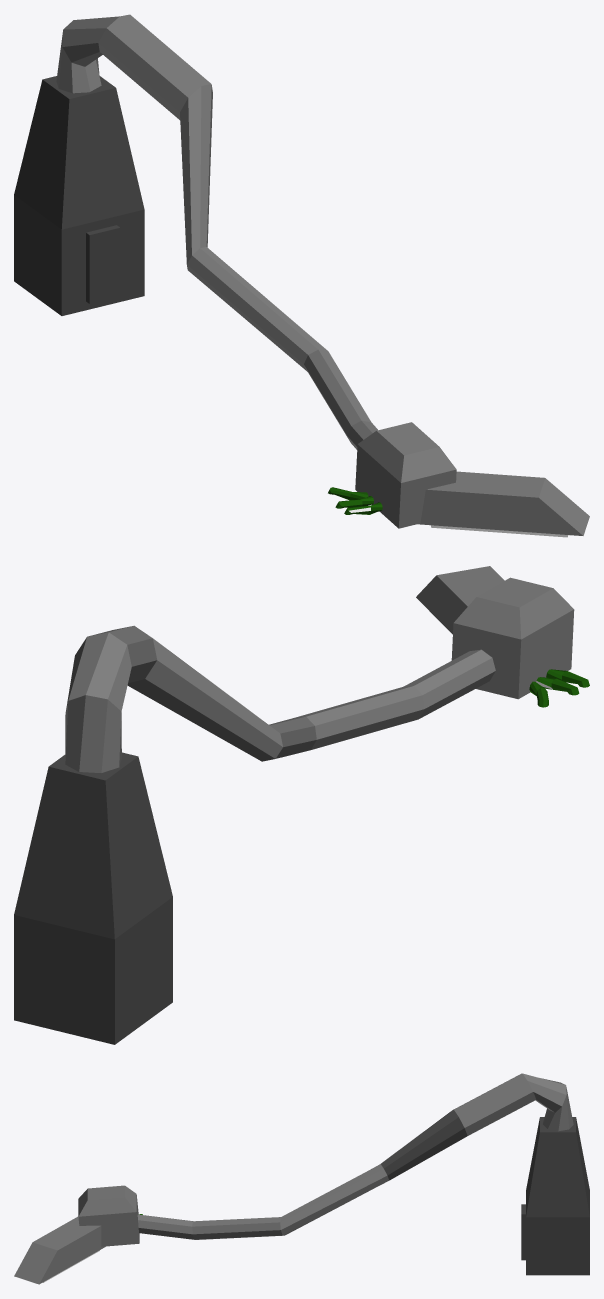
Rendered from Nblight.fbx.
3 renders of one model, top to bottom at view 1: azimuth 30°, elevation 25°; view 2: azimuth 150°, elevation 25°; view 3: azimuth 270°, elevation 25°, orthographic. The views are drawn at different scales.
Visible parts, largest first — view 1: Cube; view 2: Cube; view 3: Cube.
Part boxes in pixels (box(x1,y1,x2,y2)): Cube: box(14, 14, 589, 537); Cube: box(14, 566, 589, 1044); Cube: box(14, 1073, 589, 1284).
Bounding box in the file's own units: 468 × 666 × 1801.
